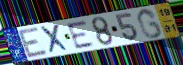5: (113, 12, 139, 42)
8: (91, 16, 114, 46)
E: (17, 25, 50, 59), (65, 19, 97, 50)
G: (136, 7, 164, 40)
X: (38, 23, 72, 55)
